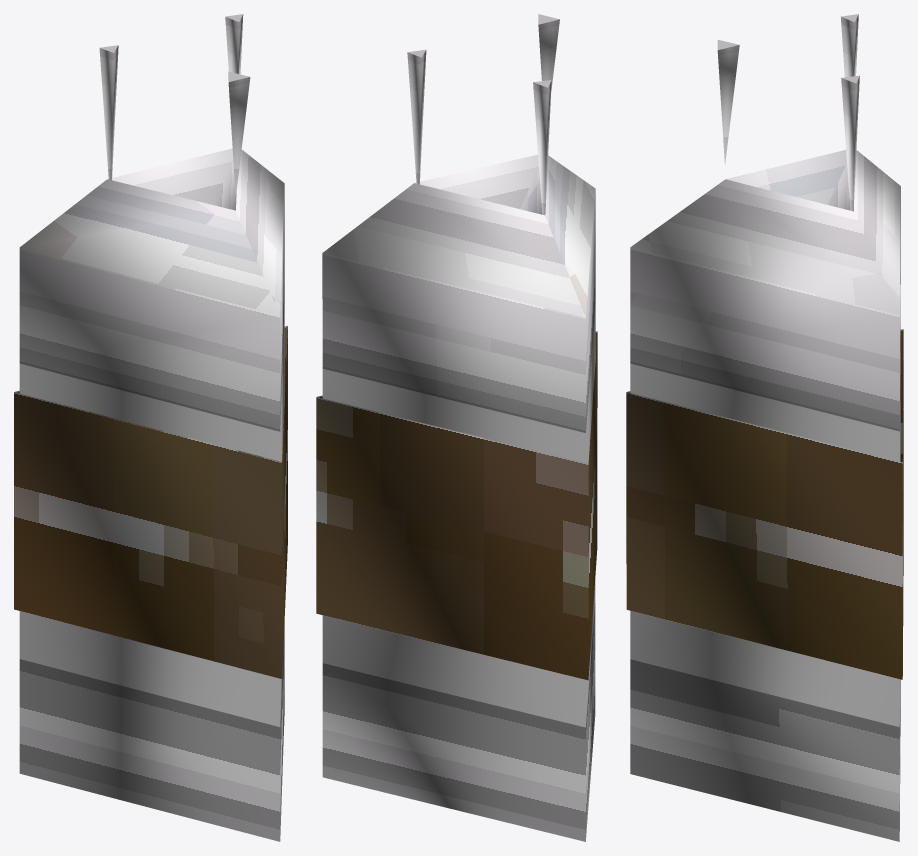
The model's file is eqp_medic_stimpack_m_s1_l2.fbx.
3 views of the same model, side by side, from view 1: azimuth 30°, elevation 25°; view 2: azimuth 150°, elevation 25°; view 3: azimuth 270°, elevation 25° (orthographic).
Parts seen in each view (by area): view 1: mesh_node; view 2: mesh_node; view 3: mesh_node.
Part boxes in pixels (<box>): mesh_node: <box>14,14,287,841</box>; mesh_node: <box>316,14,597,841</box>; mesh_node: <box>626,14,903,841</box>.
Size of the model in its own units: 0.1041 by 0.2655 by 0.0914.
